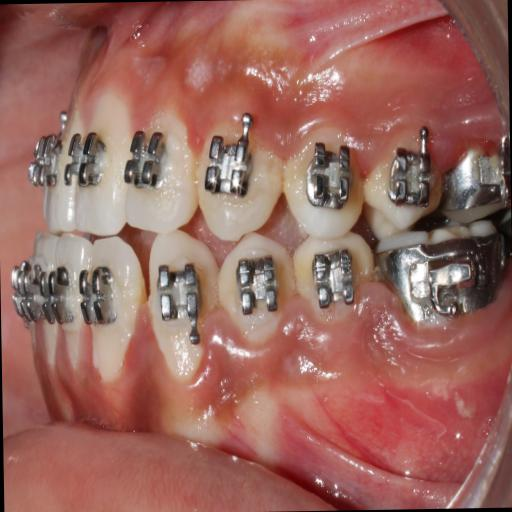correct_brace: (282, 122, 364, 234), (293, 228, 374, 336), (202, 134, 255, 198), (156, 258, 202, 328), (60, 125, 108, 191), (234, 253, 280, 318), (309, 248, 357, 306), (125, 129, 171, 189), (78, 260, 116, 332)
incorrect_brace: (149, 224, 220, 382), (128, 108, 196, 238), (298, 142, 354, 210)
